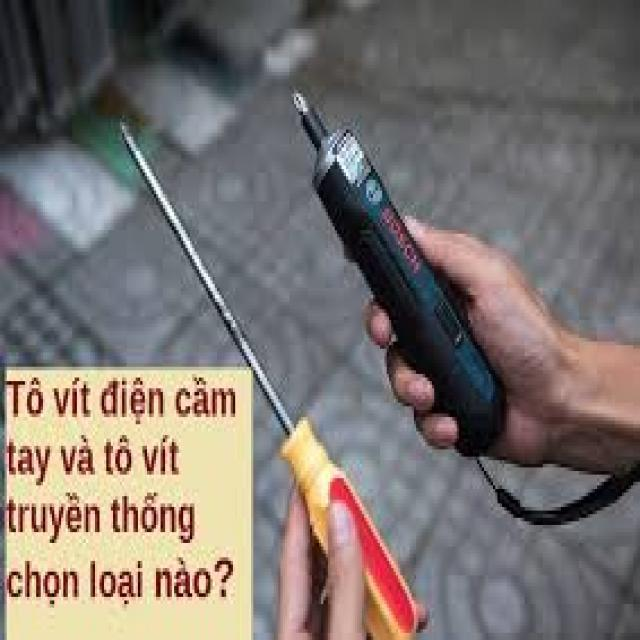screwdriver: (117, 114, 420, 636)
